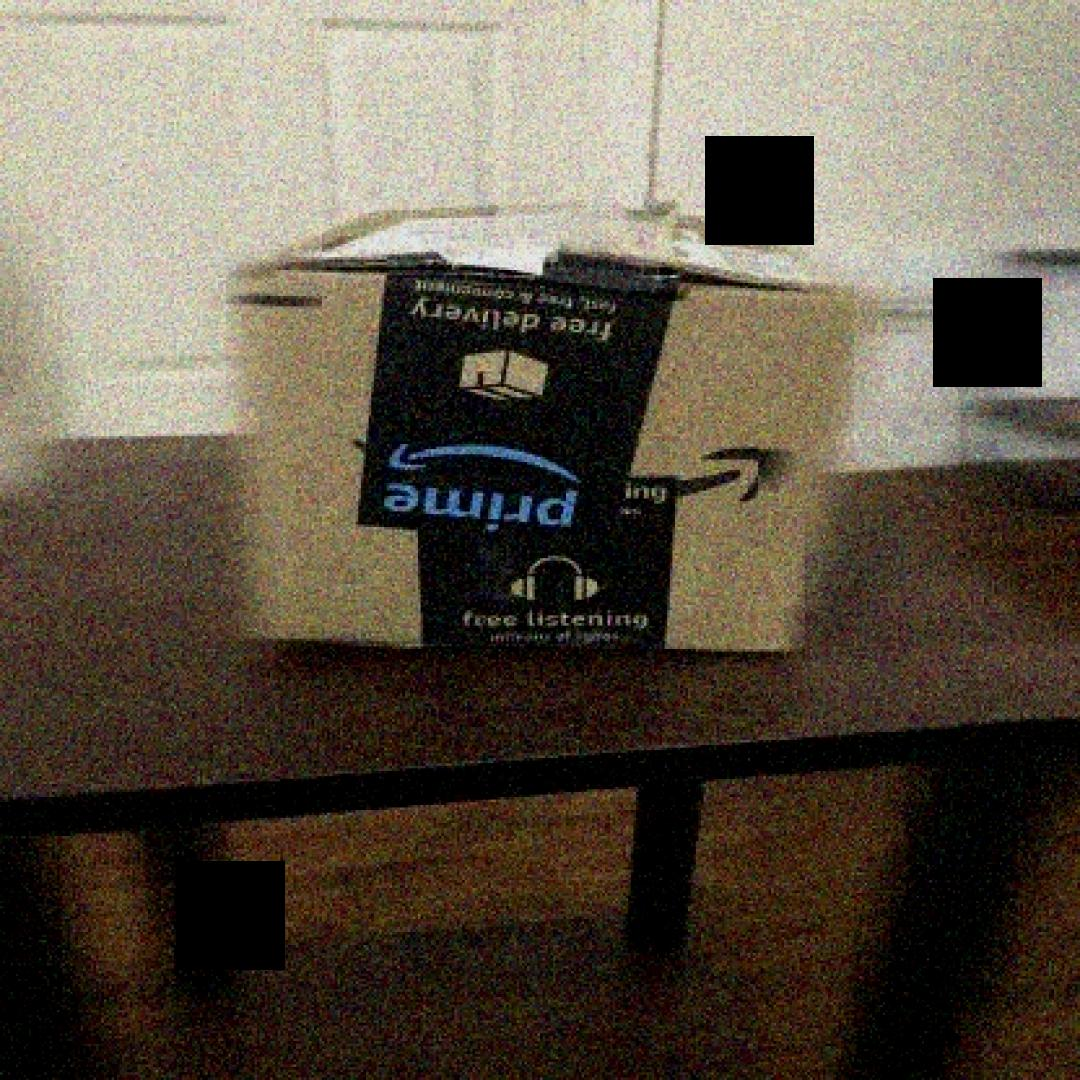package: (213, 202, 888, 668)
